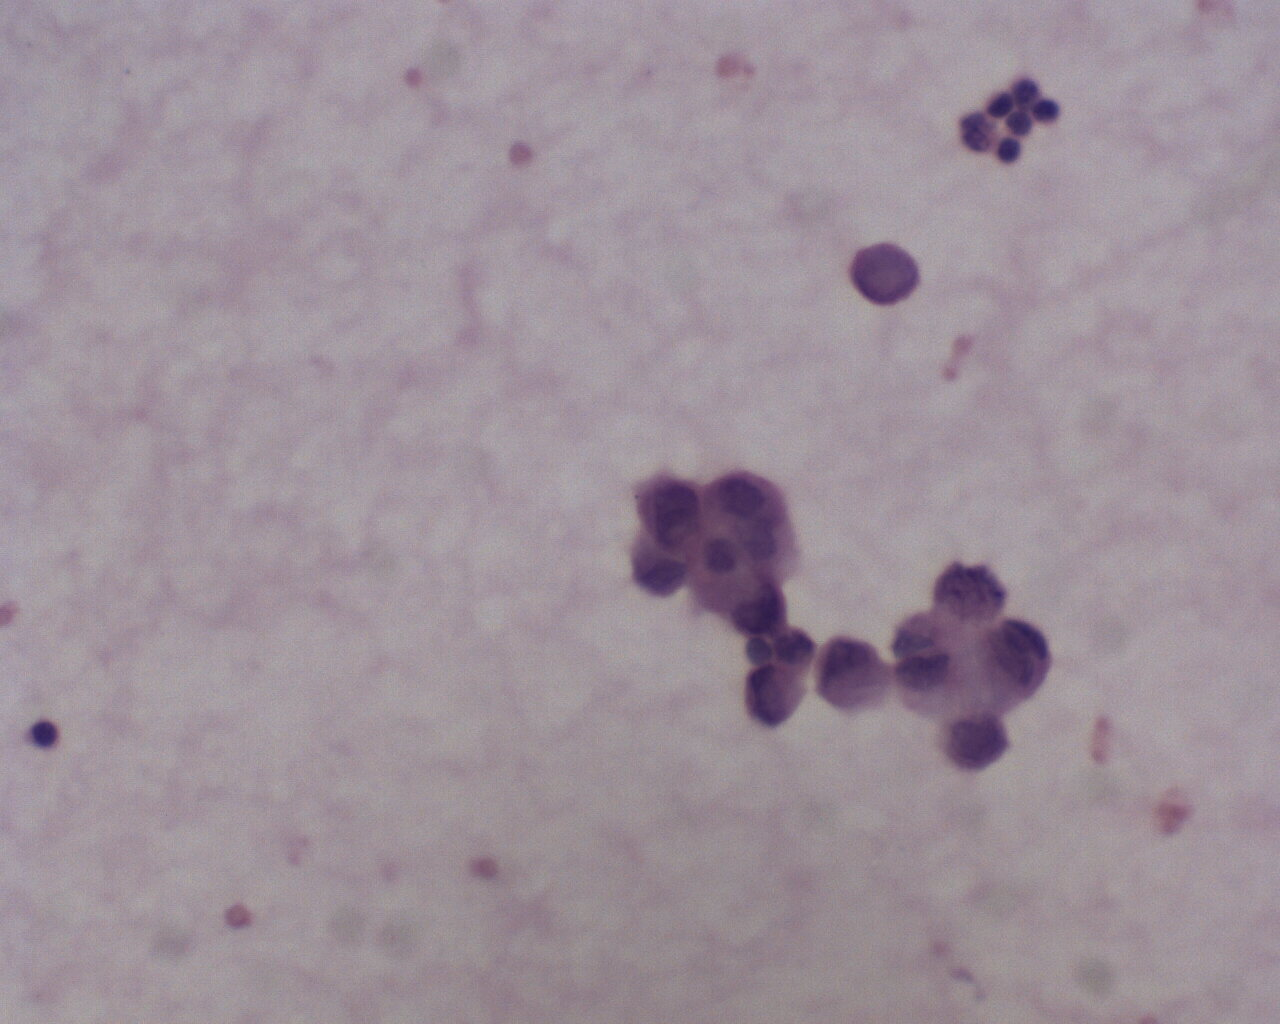ab: (971, 614, 1054, 708), (815, 633, 891, 714), (935, 706, 1014, 777), (632, 470, 704, 545), (850, 238, 924, 309), (721, 573, 793, 639), (744, 668, 807, 727), (635, 535, 692, 601)
lymph: (27, 713, 67, 757), (990, 133, 1024, 167)
